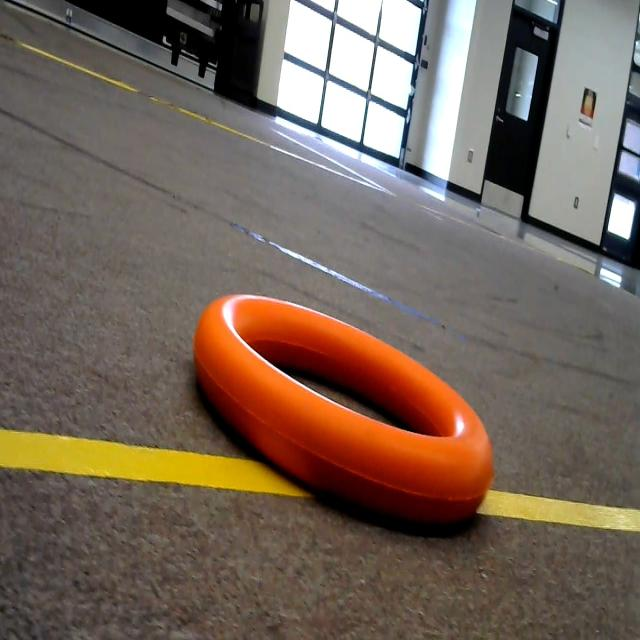note: (170, 254, 499, 550)
